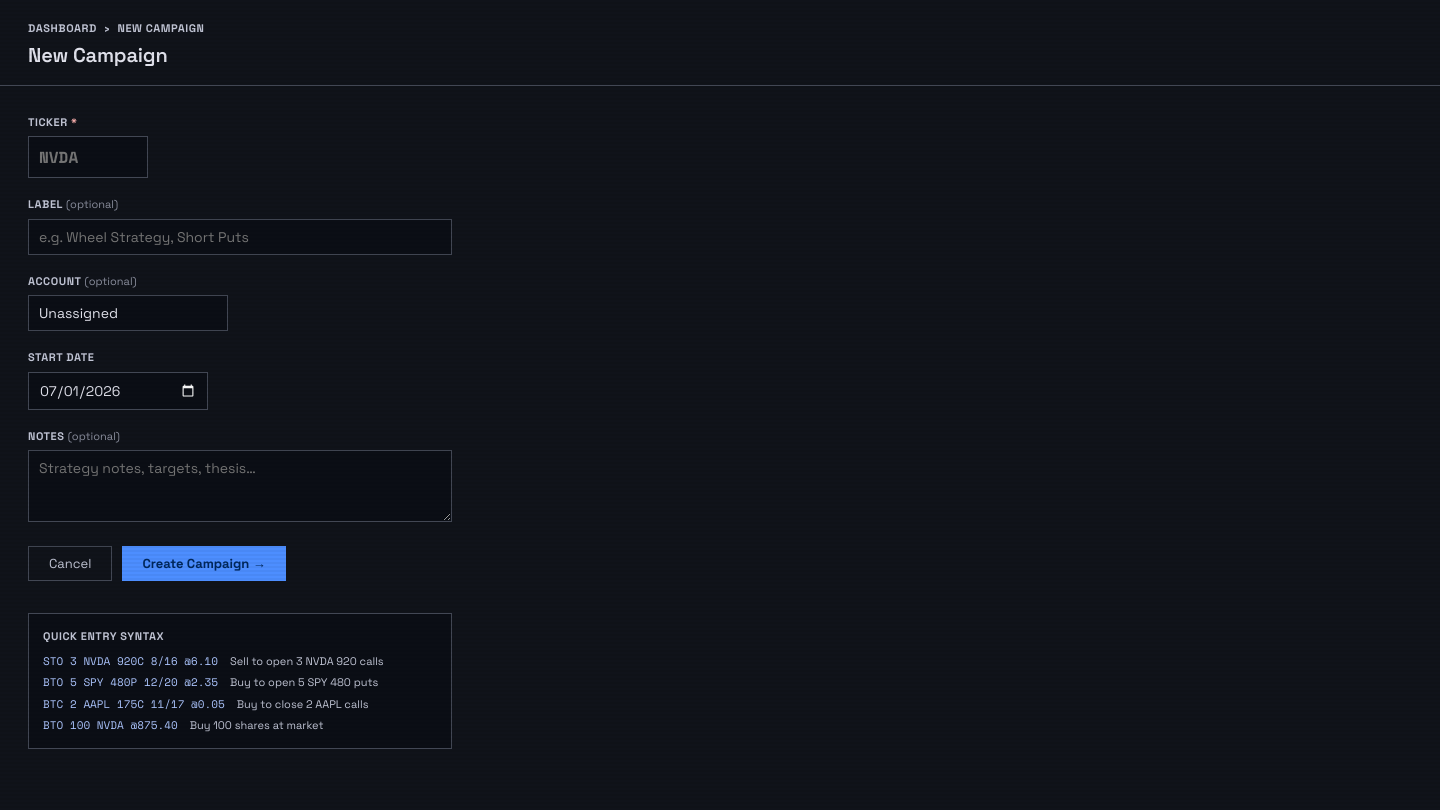
submit › shows API error and does not navigate when createCampaign rejects
In the field with class "ticker-input": coordinates (88, 157) [28,136,148,178], type "SPY"
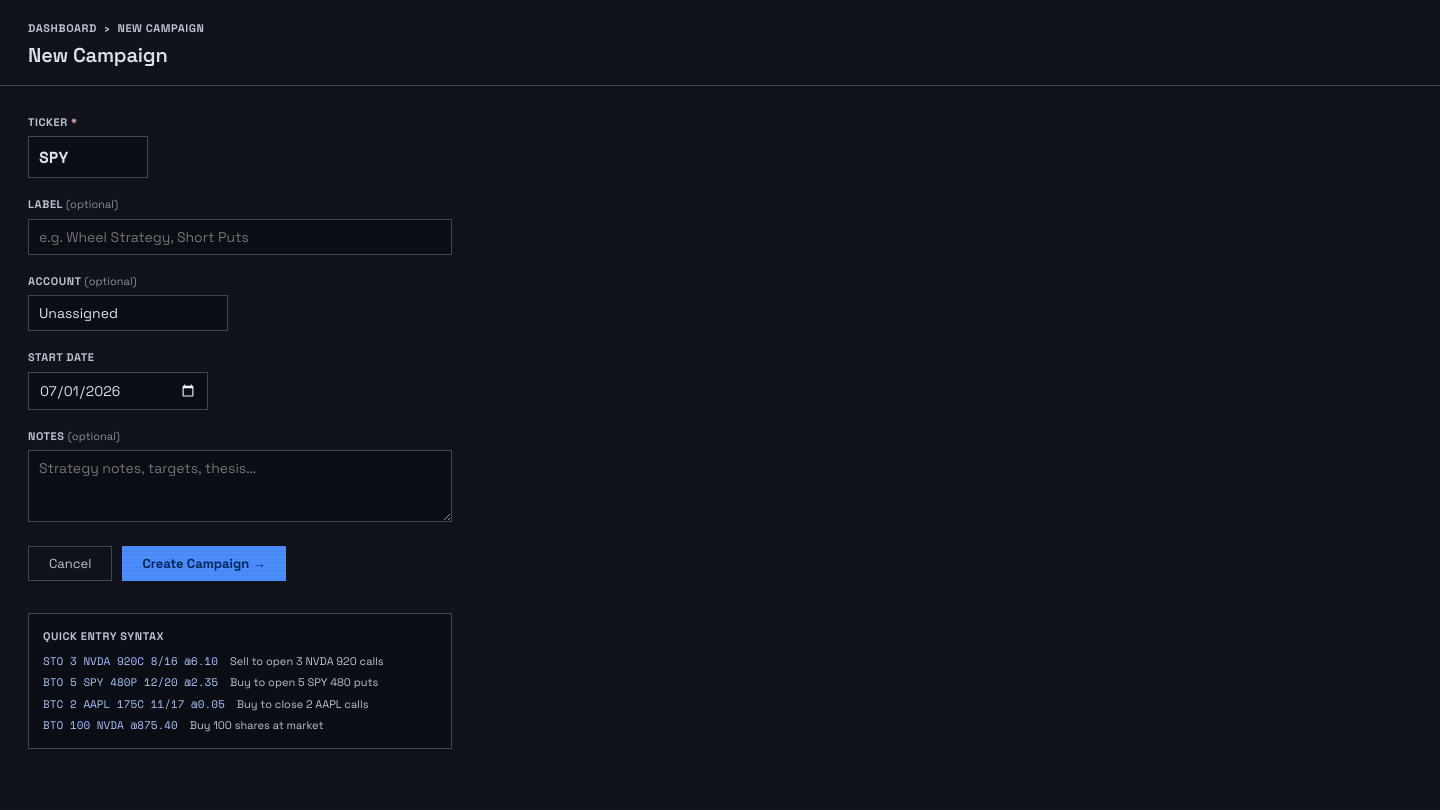
Submit the form, box [28,114,452,581]
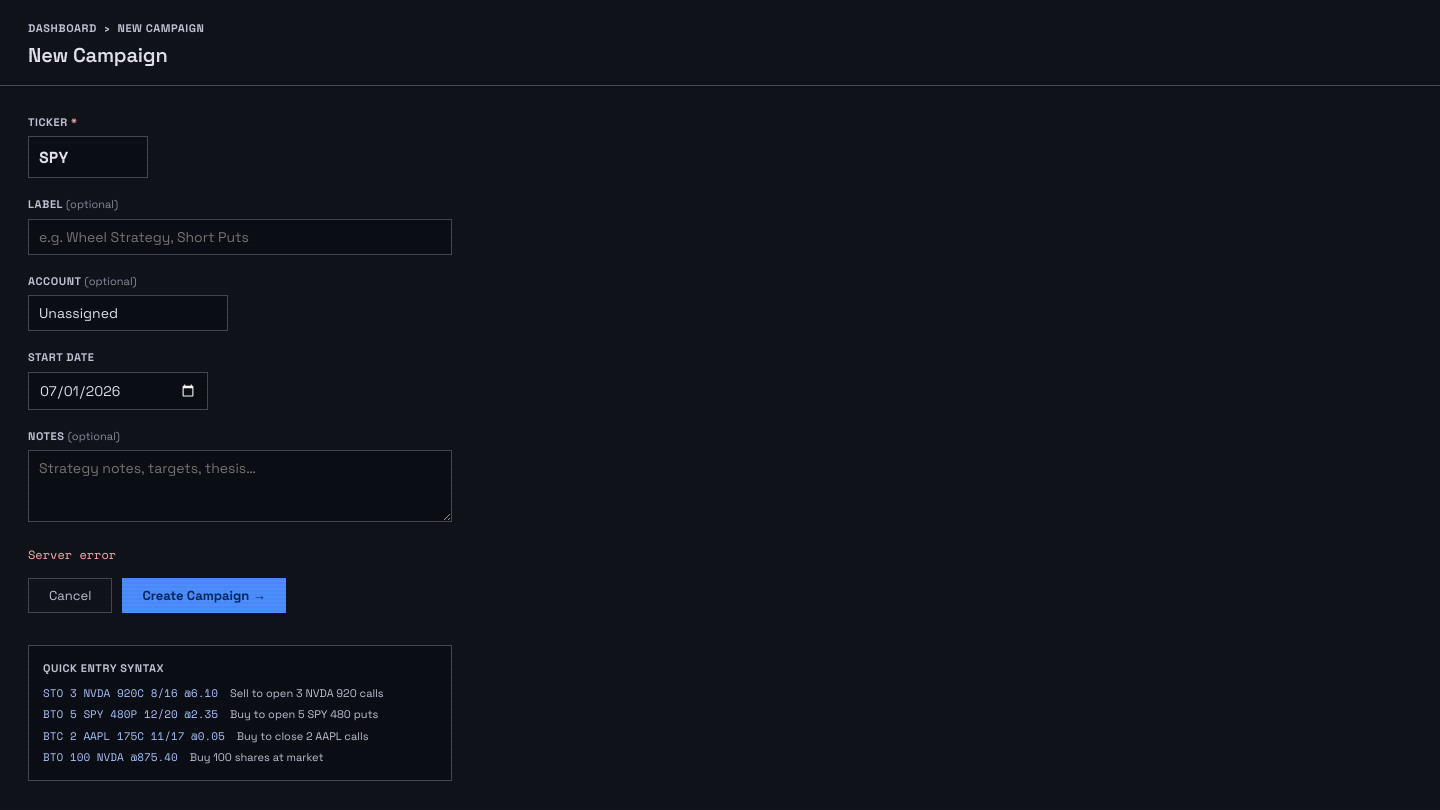
Now the text with class "api-error" reads "Server error", box [28,546,116,563]
